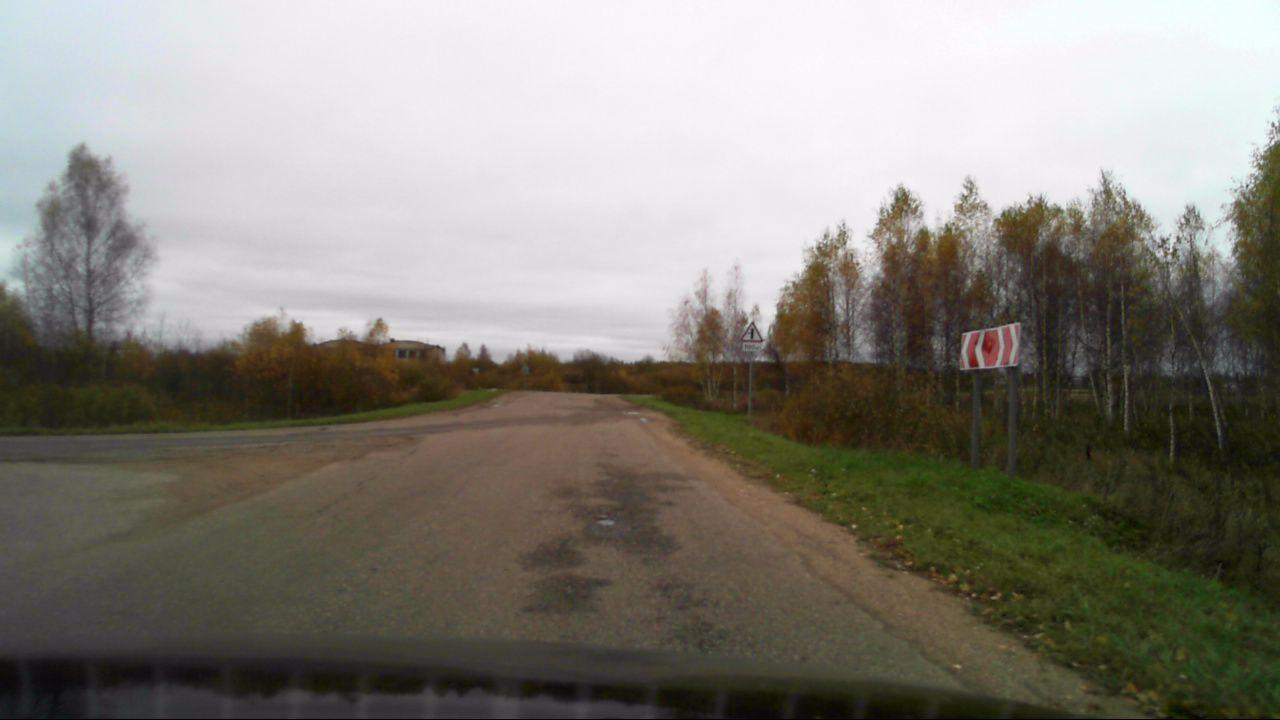road_sign: (959, 322, 1021, 371), (740, 320, 763, 342)
